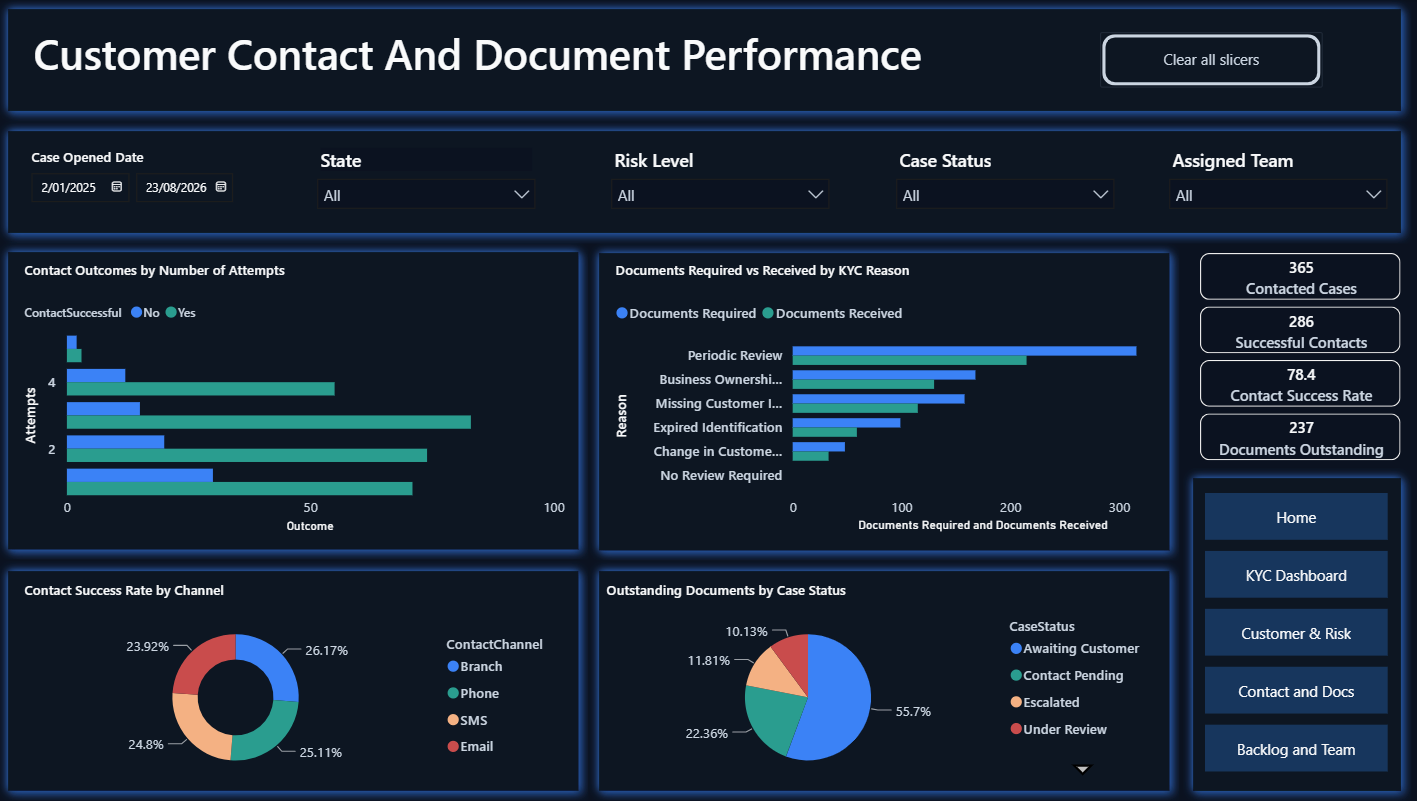

The dashboard page shown, as its layout file describes it:
{"tool":"powerbi","page":{"name":"Contact and Docs","canvas":[1280,720],"ordinal":3},"visuals":[{"type":"shape","box":[530.4,504.5,530.4,215.4],"z":0},{"type":"shape","box":[0,504.5,530.4,215.4],"z":1000},{"type":"shape","box":[530.4,219.2,530.4,285.3],"z":2000},{"type":"shape","box":[0,218.3,530.4,285.3],"z":3000},{"type":"shape","box":[1063.8,421,204.7,299],"z":4000},{"type":"shape","box":[0,0,1268.5,109.5],"z":5000},{"type":"shape","box":[0,109.5,1268.5,109.5],"z":6000},{"type":"textbox","box":[26.9,18.9,1162.6,78.1],"z":7000},{"type":"pageNavigator","box":[1083.6,443.5,164.3,255],"z":8000},{"type":"slicer","fields":{"Values":["DimDate.DateLabel"]},"box":[17.1,128.4,216.4,71.8],"z":9000},{"type":"slicer","fields":{"Values":["DimCustomer.State"]},"box":[276.5,128.4,216.4,71.8],"z":10000},{"type":"slicer","fields":{"Values":["DimCustomer.RiskLevel"]},"box":[540.4,128.4,216.4,71.8],"z":11000},{"type":"slicer","fields":{"Values":["DimCaseStatus.CaseStatus"]},"box":[796.3,128.4,216.4,71.8],"z":12000},{"type":"slicer","fields":{"Values":["DimTeam.AssignedTeam"]},"box":[1041.4,128.4,216.4,71.8],"z":13000},{"type":"cardVisual","fields":{"Data":["FactKYCCase.Contacted Cases","FactKYCCase.Successful Contacts","FactKYCCase.Contact Success Rate","FactKYCCase.Documents Outstanding"]},"box":[1070.1,219.1,198.4,205.6],"z":14000},{"type":"donutChart","title":"Contact Success Rate by Channel","fields":{"Category":["DimContactChannel.ContactChannel"],"Y":["FactKYCCase.Contact Success Rate"]},"box":[19.1,522.7,497.8,181.9],"z":15000},{"type":"clusteredBarChart","title":"Documents Required vs Received by KYC Reason","fields":{"Category":["DimKYCReason.KYCReason"],"Y":["Sum(FactKYCCase.DocumentsRequired)","Sum(FactKYCCase.DocumentsReceived)"]},"box":[549.5,235.5,520.8,248],"z":16000},{"type":"pieChart","title":"Outstanding Documents by Case Status","fields":{"Category":["DimCaseStatus.CaseStatus"],"Y":["FactKYCCase.Documents Outstanding"]},"box":[540.9,522.7,500.7,181.9],"z":17000},{"type":"clusteredBarChart","title":"Contact Outcomes by Number of Attempts","fields":{"Category":["FactKYCCase.ContactAttempts"],"Series":["FactKYCCase.ContactSuccessful"],"Y":["FactKYCCase.Contact Outcome Cases"]},"box":[19.1,235.5,495,248],"z":18000},{"type":"actionButton","title":"Reset Filters","box":[989,29.7,200,50],"z":18001}]}

Visuals, with their boxes in screenshot pixels (x1, y1, x2, y2), scaled from the page's 1280x720 canvas onto the 1417x801 screenshot:
shape: <bbox>587, 561, 1174, 800</bbox>
shape: <bbox>0, 561, 587, 800</bbox>
shape: <bbox>587, 244, 1174, 561</bbox>
shape: <bbox>0, 243, 587, 560</bbox>
shape: <bbox>1178, 468, 1404, 800</bbox>
shape: <bbox>0, 0, 1404, 122</bbox>
shape: <bbox>0, 122, 1404, 244</bbox>
textbox: <bbox>30, 21, 1317, 108</bbox>
pageNavigator: <bbox>1200, 493, 1381, 777</bbox>
slicer - DimDate.DateLabel: <bbox>19, 143, 258, 223</bbox>
slicer - DimCustomer.State: <bbox>306, 143, 546, 223</bbox>
slicer - DimCustomer.RiskLevel: <bbox>598, 143, 838, 223</bbox>
slicer - DimCaseStatus.CaseStatus: <bbox>882, 143, 1121, 223</bbox>
slicer - DimTeam.AssignedTeam: <bbox>1153, 143, 1392, 223</bbox>
cardVisual - FactKYCCase.Contacted Cases x FactKYCCase.Successful Contacts: <bbox>1185, 244, 1404, 472</bbox>
"Contact Success Rate by Channel" donutChart: <bbox>21, 582, 572, 784</bbox>
"Documents Required vs Received by KYC Reason" clusteredBarChart: <bbox>608, 262, 1185, 538</bbox>
"Outstanding Documents by Case Status" pieChart: <bbox>599, 582, 1153, 784</bbox>
"Contact Outcomes by Number of Attempts" clusteredBarChart: <bbox>21, 262, 569, 538</bbox>
"Reset Filters" actionButton: <bbox>1095, 33, 1316, 89</bbox>
